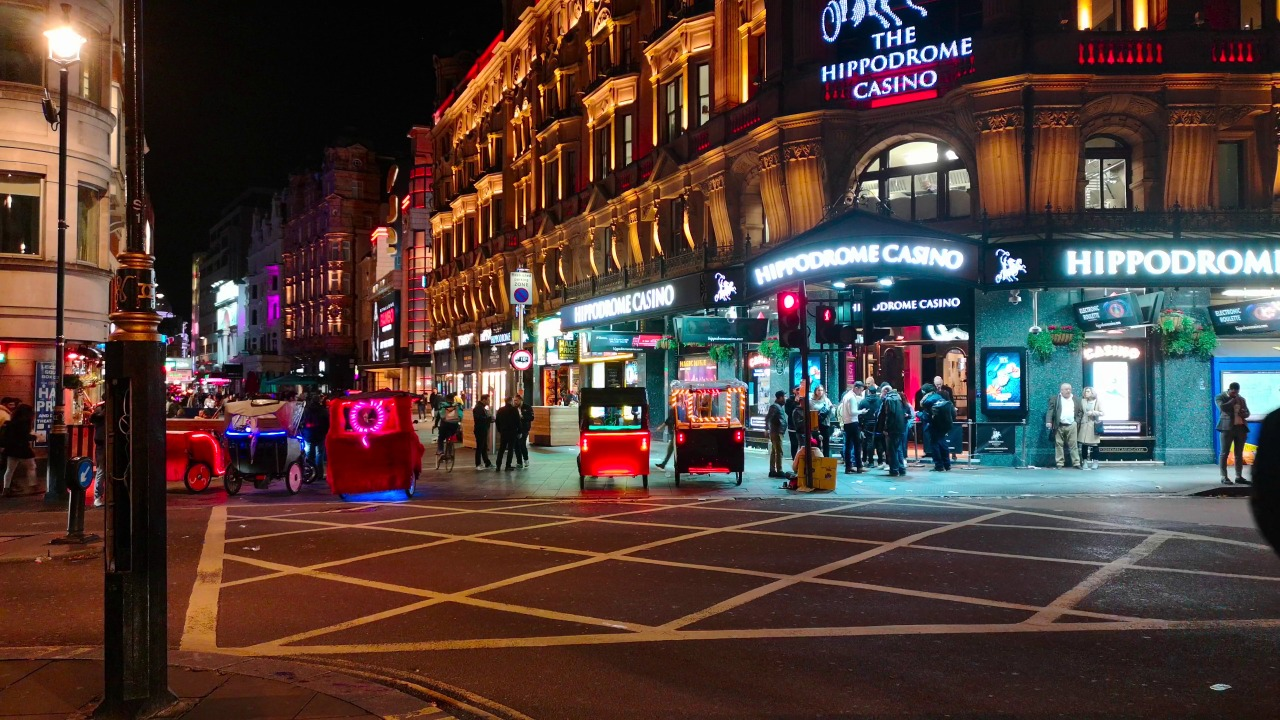car: (334, 403, 418, 509), (676, 381, 744, 483), (240, 410, 311, 497), (584, 395, 645, 488), (173, 424, 220, 494)
person: (1, 382, 37, 499), (1044, 364, 1076, 477), (1215, 369, 1244, 474), (832, 374, 861, 469), (880, 390, 905, 480), (924, 385, 950, 470), (794, 441, 827, 497), (859, 390, 881, 468), (472, 394, 487, 474), (655, 392, 666, 485), (497, 404, 512, 467), (442, 394, 457, 453), (519, 392, 530, 468), (1088, 386, 1097, 477), (810, 378, 830, 417), (791, 392, 808, 433), (772, 389, 779, 477), (863, 372, 878, 394), (934, 368, 950, 387)
